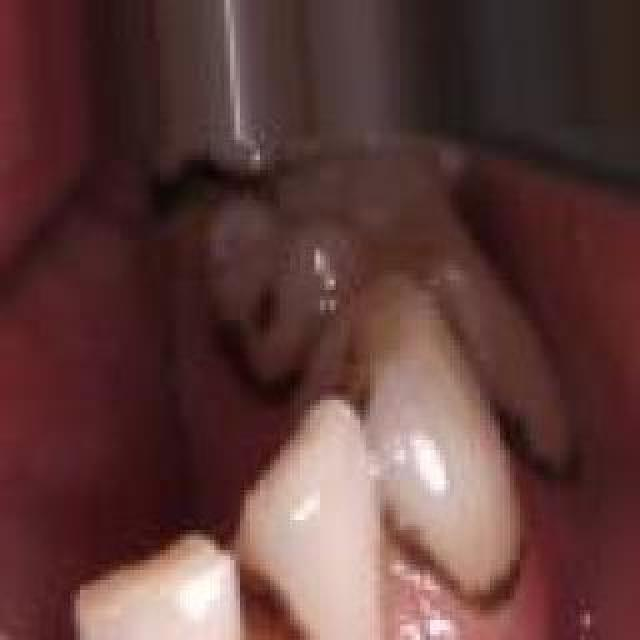spacing: (186, 480, 326, 640), (4, 546, 116, 640)
stains: (225, 190, 305, 406), (390, 494, 530, 610), (485, 385, 591, 511), (78, 570, 262, 640), (234, 574, 394, 640)
